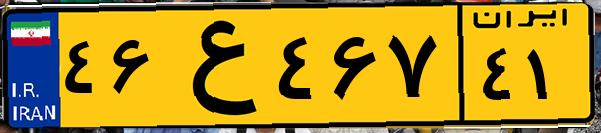1: (525, 38, 570, 115)
4: (270, 28, 330, 110), (57, 26, 110, 100), (475, 38, 525, 113)
6: (330, 28, 385, 110), (110, 28, 158, 98)
7: (385, 28, 445, 110)
ع: (158, 12, 270, 120)
